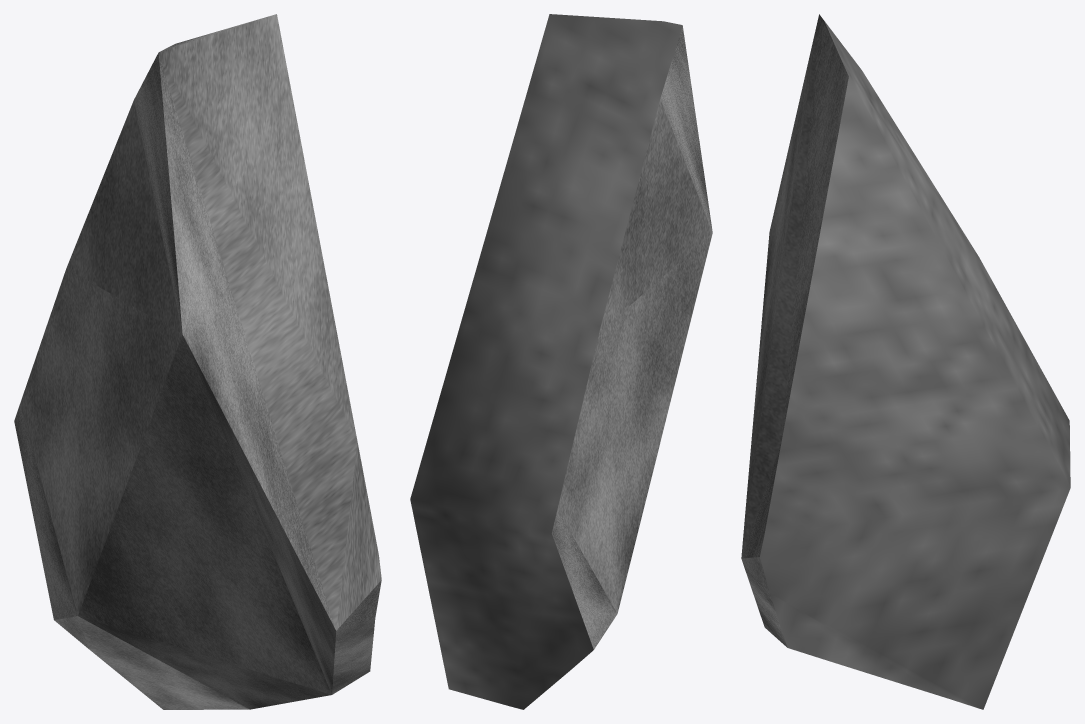
The model's file is leg_2_cell_006.fbx.
3 renders of one model, left to right at view 1: azimuth 30°, elevation 25°; view 2: azimuth 150°, elevation 25°; view 3: azimuth 270°, elevation 25°, orthographic. The views are drawn at different scales.
Parts seen in each view (by area): view 1: leg_2_cell.006; view 2: leg_2_cell.006; view 3: leg_2_cell.006.
Boxes of the visible parts, x1,y1,x2,y2 form: leg_2_cell.006: (14,14,381,709); leg_2_cell.006: (410,14,712,709); leg_2_cell.006: (741,14,1070,709).
Bounding box in the file's own units: 11.49 × 41.39 × 19.46.
